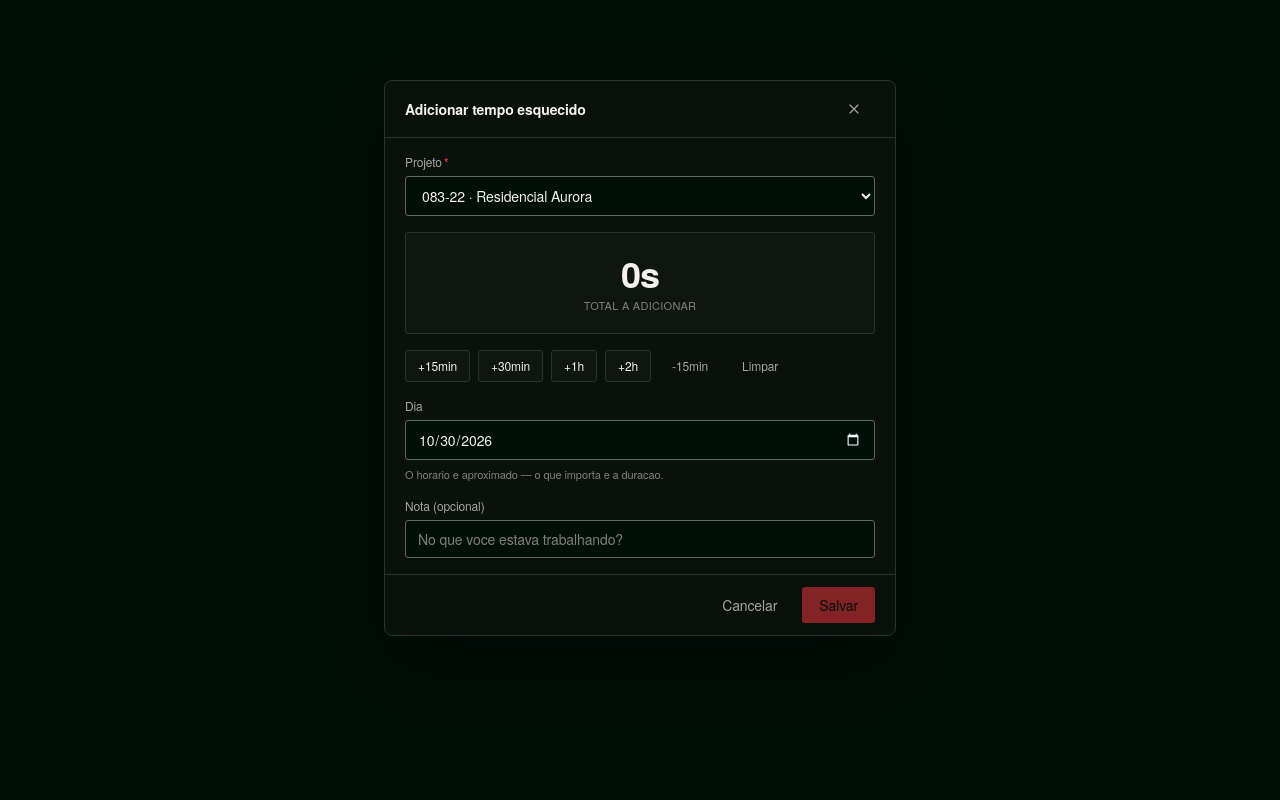
Test: QuickTimeModal › os incrementos acumulam num total
Click the button "+30min" at {"x": 510, "y": 366}, box [478,350,543,382]
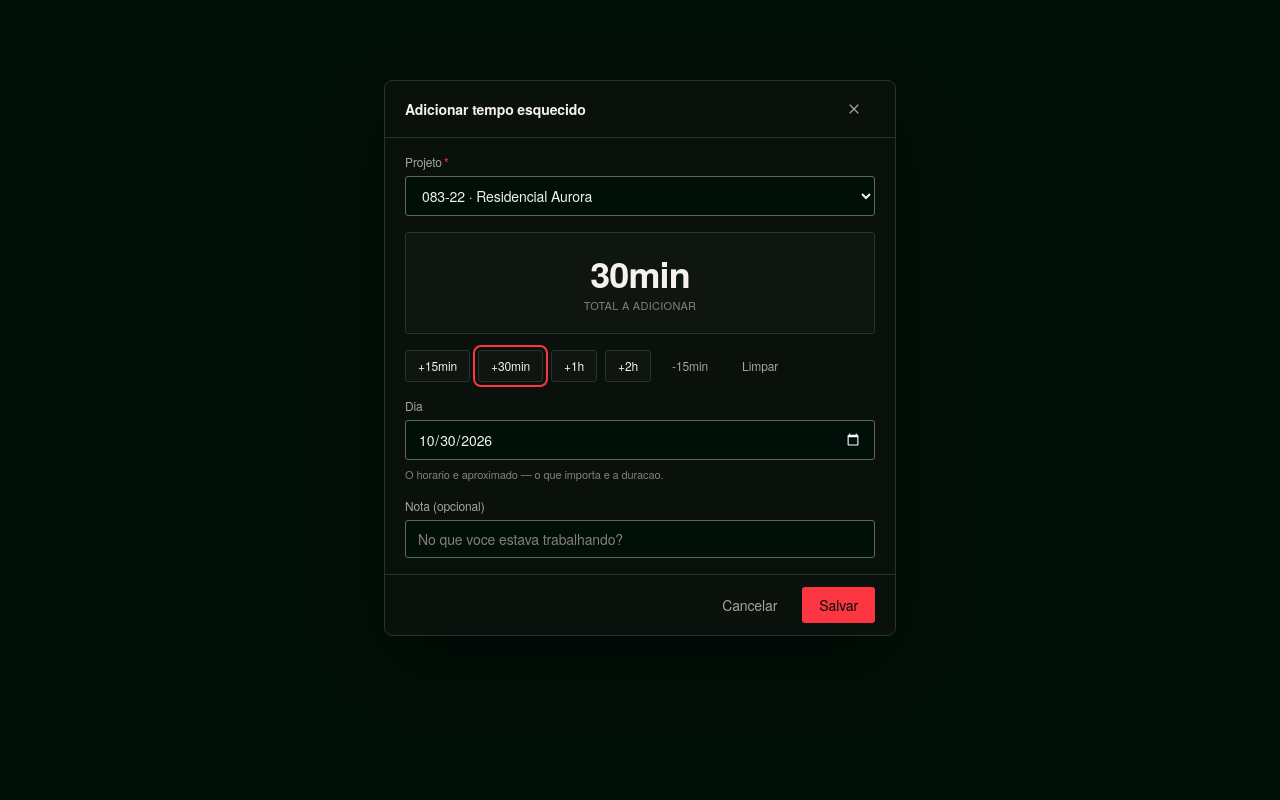
Click the button "+1h" at {"x": 574, "y": 366}, box [551,350,597,382]
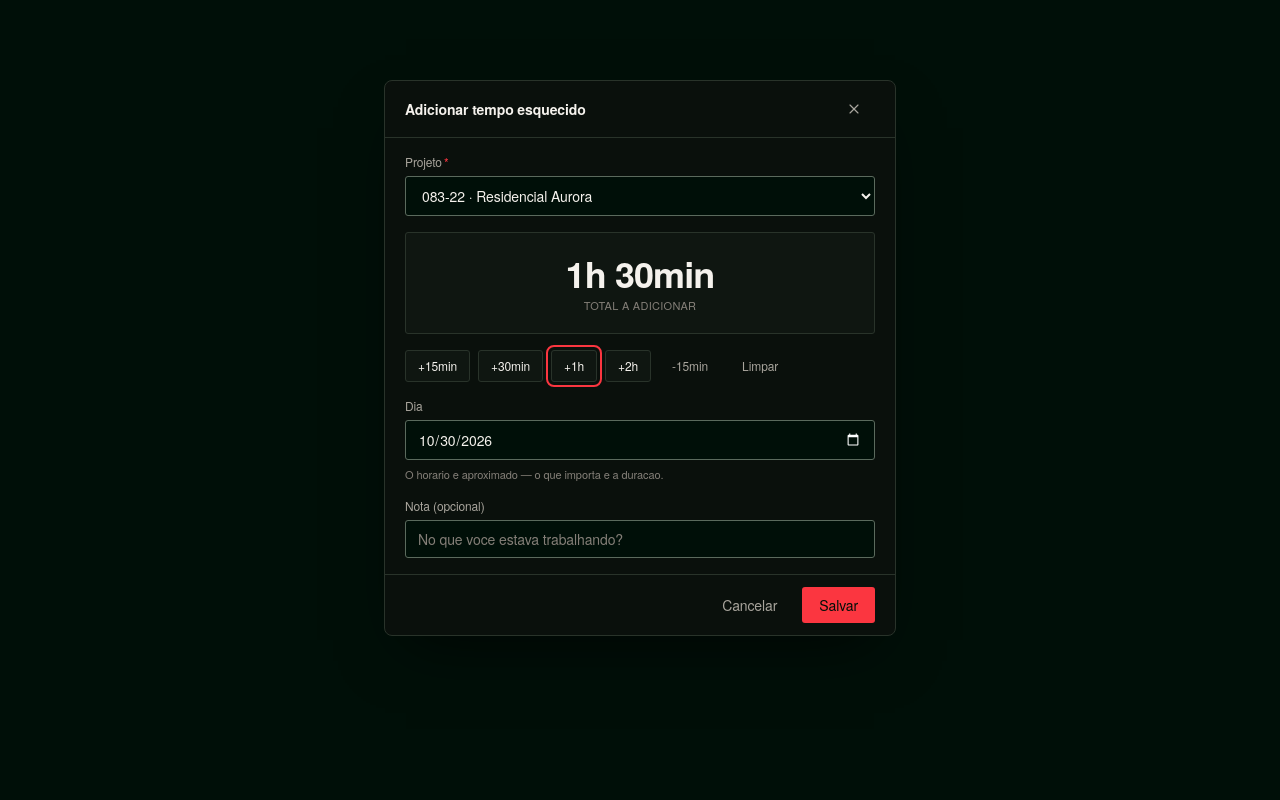
Check: the text with test id "quick-total" reads "1h 30min", box [566,247,714,299]
